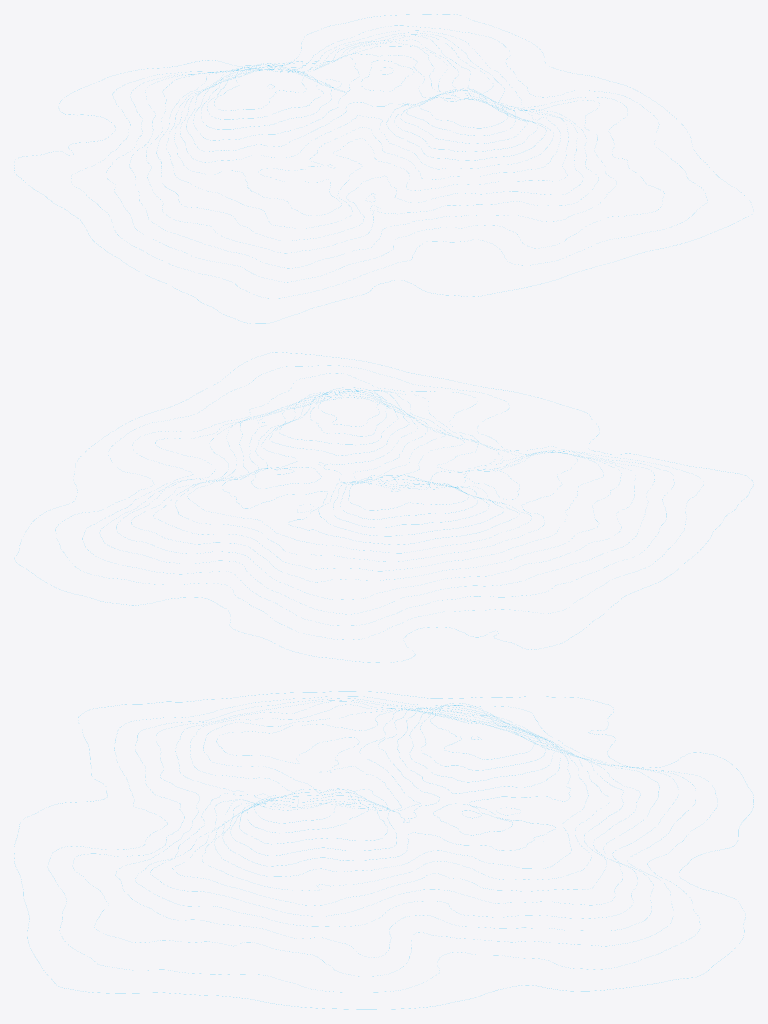
3 renders of one model, top to bottom at view 1: azimuth 30°, elevation 25°; view 2: azimuth 150°, elevation 25°; view 3: azimuth 270°, elevation 25°, orthographic. The views are drawn at different scales.
Size of the model in its own units: 10.2 by 1.17 by 10.03.
